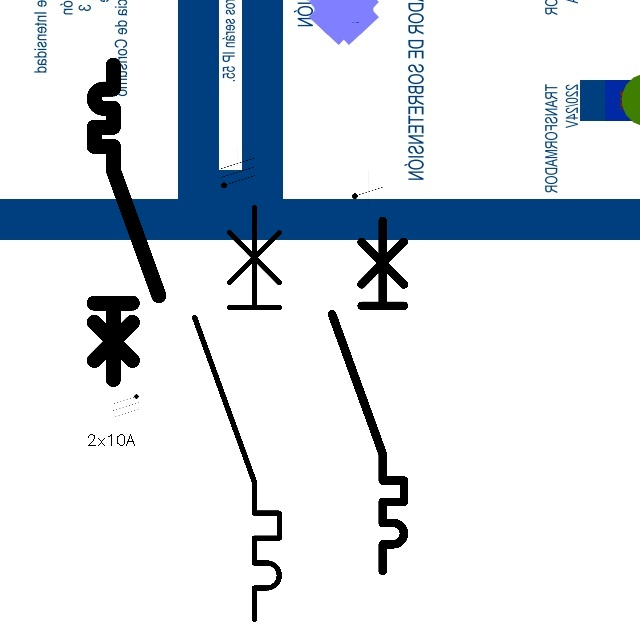interruptor_termomagnetico: (184, 196, 290, 629), (323, 211, 413, 580), (86, 57, 167, 388)
